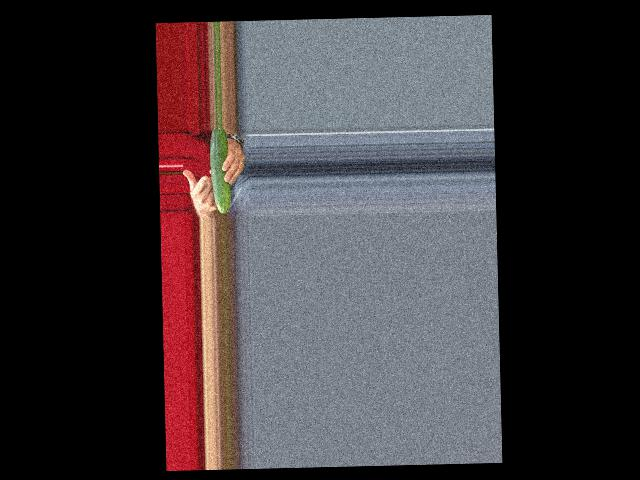cucumber: (209, 127, 231, 213)
